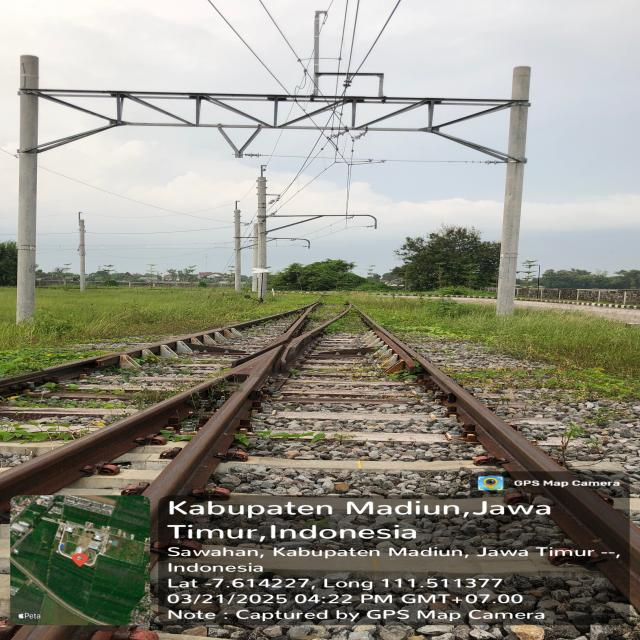rail-detection: (360, 312, 640, 600), (144, 302, 345, 531), (0, 379, 216, 510), (0, 310, 297, 394)
